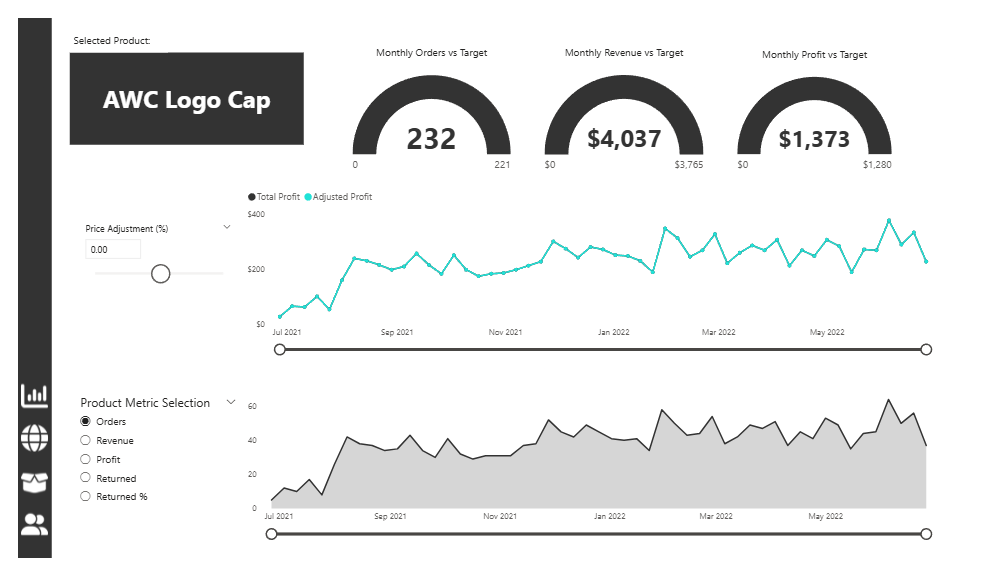

The page's visual inventory and layout, read from the dashboard file:
{"tool":"powerbi","page":{"name":"Product Detail","canvas":[1280,720],"ordinal":2},"visuals":[{"type":"shape","box":[0,0,45,720],"z":0},{"type":"actionButton","box":[0,481.4,44.3,45.7],"z":0,"group":"g1"},{"type":"actionButton","box":[0,597.1,44.3,45.7],"z":1000,"group":"g1"},{"type":"gauge","title":"Monthly Orders vs Target  ","fields":{"MaxValue":["Measure Table.Order Target"],"Y":["Measure Table.Total Orders"]},"box":[441,37.1,221.4,192.9],"z":2000},{"type":"actionButton","box":[0,537.1,44.3,45.7],"z":2000,"group":"g1"},{"type":"gauge","title":"Monthly Profit vs Target  ","fields":{"MaxValue":["Measure Table.Profit Target"],"Y":["Measure Table.Total Profit"]},"box":[954.3,38.6,215.7,191.4],"z":3000},{"type":"actionButton","box":[0,652.8,44.3,45.7],"z":3000,"group":"g1"},{"type":"gauge","title":"Monthly Revenue vs Target  ","fields":{"MaxValue":["Measure Table.Revenue Target"],"Y":["Measure Table.Total Revenue"]},"box":[697.1,37.3,222.1,192.7],"z":4000},{"type":"lineChart","title":"Profit Trend","fields":{"Category":["Calendar Lookup.Date Hierarchy.Start of Year","Calendar Lookup.Date Hierarchy.Start of Month","Calendar Lookup.Date Hierarchy.Start of Week","Calendar Lookup.Date Hierarchy.Date"],"Y":["Measure Table.Total Profit","Measure Table.Adjusted Profit"]},"box":[301.4,218.6,938.6,234.3],"z":5000},{"type":"areaChart","title":"Returns Trend","fields":{"Category":["Calendar Lookup.Date Hierarchy.Start of Year","Calendar Lookup.Date Hierarchy.Start of Month","Calendar Lookup.Date Hierarchy.Start of Week","Calendar Lookup.Date Hierarchy.Date"],"Y":["Measure Table.Total Orders"]},"box":[301.4,481.4,938.6,217.1],"z":6000},{"type":"card","fields":{"Values":["Min(Product Lookup.ProductName)"]},"box":[68.6,45.7,312.9,122.9],"z":6001},{"type":"textbox","box":[68.6,15.7,131.4,30],"z":6002},{"type":"group","id":"g1","title":"Navigation Group","box":[0,481.4,44.3,217.1],"z":6003},{"type":"slicer","fields":{"Values":["Price Adjustment (%).Price Adjustment (%)"]},"box":[77.1,267.1,218.6,135.7],"z":6004},{"type":"slicer","fields":{"Values":["Product Metric Selection.Product Metric Selection"]},"box":[70,497.1,232.9,171.4],"z":6005}]}

Visuals, with their boxes on the page's 1280x720 design canvas (x1, y1, x2, y2). These are canvas units, not pixel positions in the 996x576 screenshot, which may show the page scaled, cropped or inside an application window:
shape: x1=0, y1=0, x2=45, y2=720
actionButton: x1=0, y1=481, x2=44, y2=527
actionButton: x1=0, y1=597, x2=44, y2=643
"Monthly Orders vs Target  " gauge: x1=441, y1=37, x2=662, y2=230
actionButton: x1=0, y1=537, x2=44, y2=583
"Monthly Profit vs Target  " gauge: x1=954, y1=39, x2=1170, y2=230
actionButton: x1=0, y1=653, x2=44, y2=698
"Monthly Revenue vs Target  " gauge: x1=697, y1=37, x2=919, y2=230
"Profit Trend" lineChart: x1=301, y1=219, x2=1240, y2=453
"Returns Trend" areaChart: x1=301, y1=481, x2=1240, y2=698
card - Min(Product Lookup.ProductName): x1=69, y1=46, x2=382, y2=169
textbox: x1=69, y1=16, x2=200, y2=46
"Navigation Group" group: x1=0, y1=481, x2=44, y2=698
slicer - Price Adjustment (%).Price Adjustment (%): x1=77, y1=267, x2=296, y2=403
slicer - Product Metric Selection.Product Metric Selection: x1=70, y1=497, x2=303, y2=668
